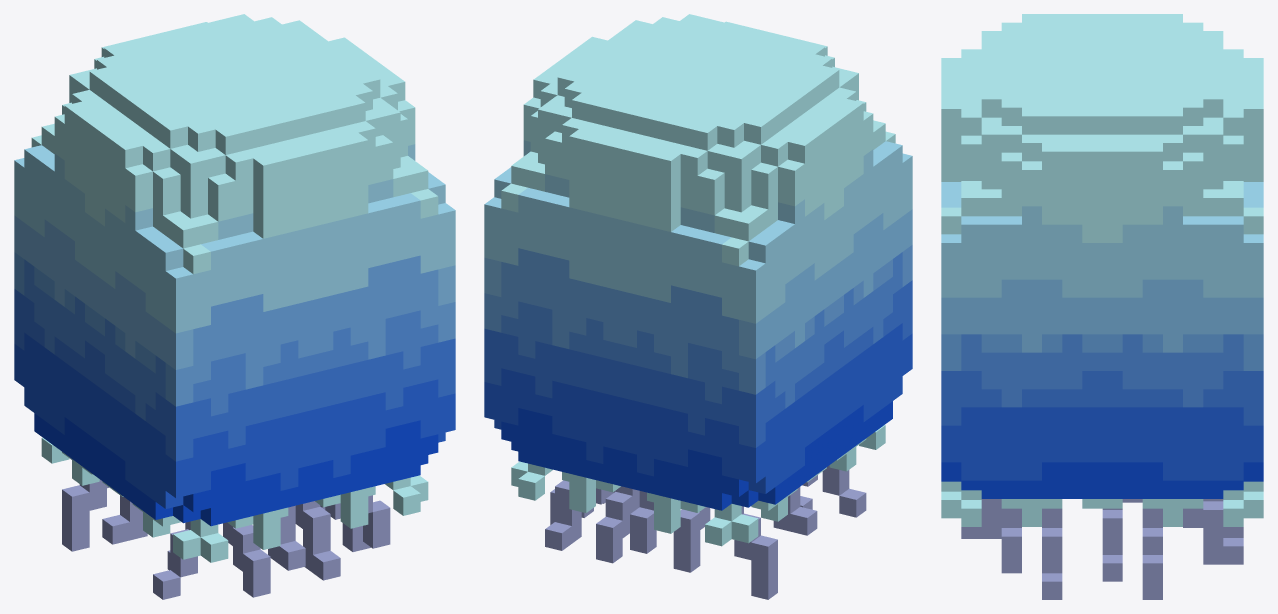
File: Cannonball_Jelly.obj
The picture shows the model from 3 angles, left to right: view 1: azimuth 30°, elevation 25°; view 2: azimuth 150°, elevation 25°; view 3: azimuth 270°, elevation 25°; orthographic projection. The views are drawn at different scales.
Size of the model in its own units: 1.6 by 2.6 by 1.6.
Materials: 1 (1 with a texture image).
